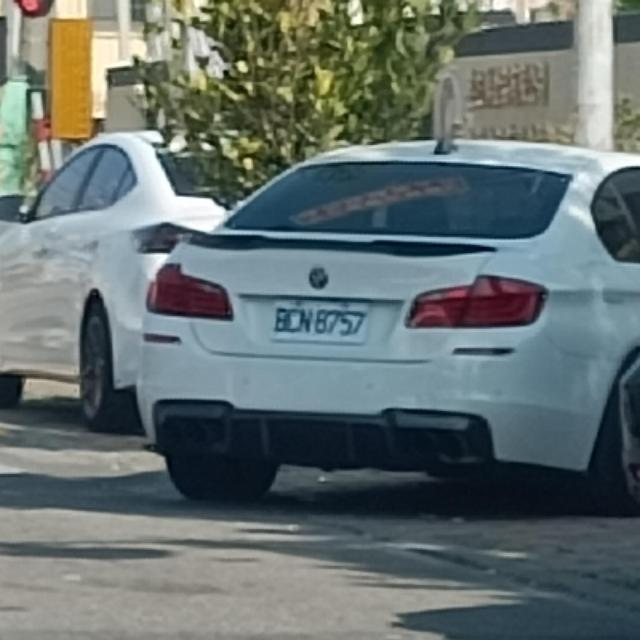W: (272, 296, 367, 346)
